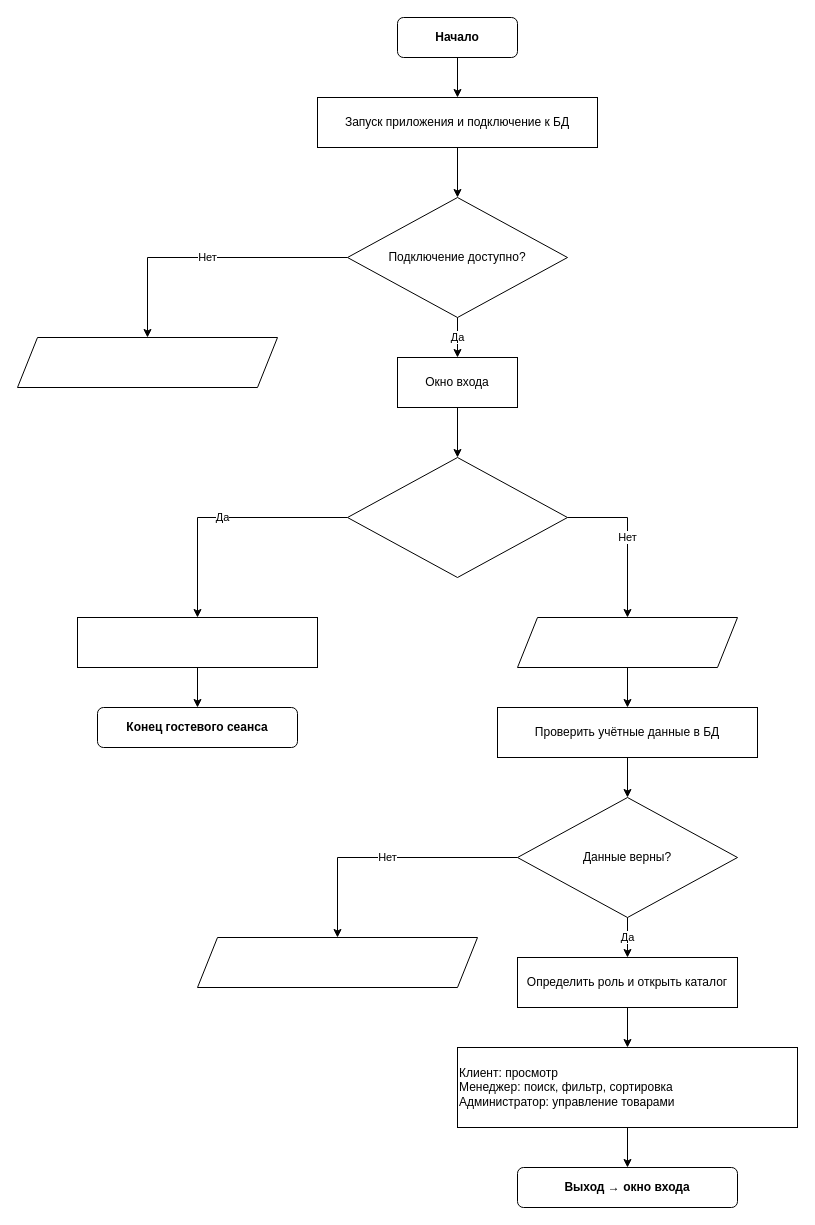
The diagram is 815 pixels wide and 1225 high, and some of its shapes have lost their labels. The centre of each missing label's shape, as x and y in pixels:
Ввод логина и пароля: point (627, 642)
Вход гостем?: point (457, 517)
Каталог: только просмотр: point (197, 642)
Сообщение об ошибке и инструкция: point (147, 362)
Сообщение: неверный логин или пароль: point (337, 962)
